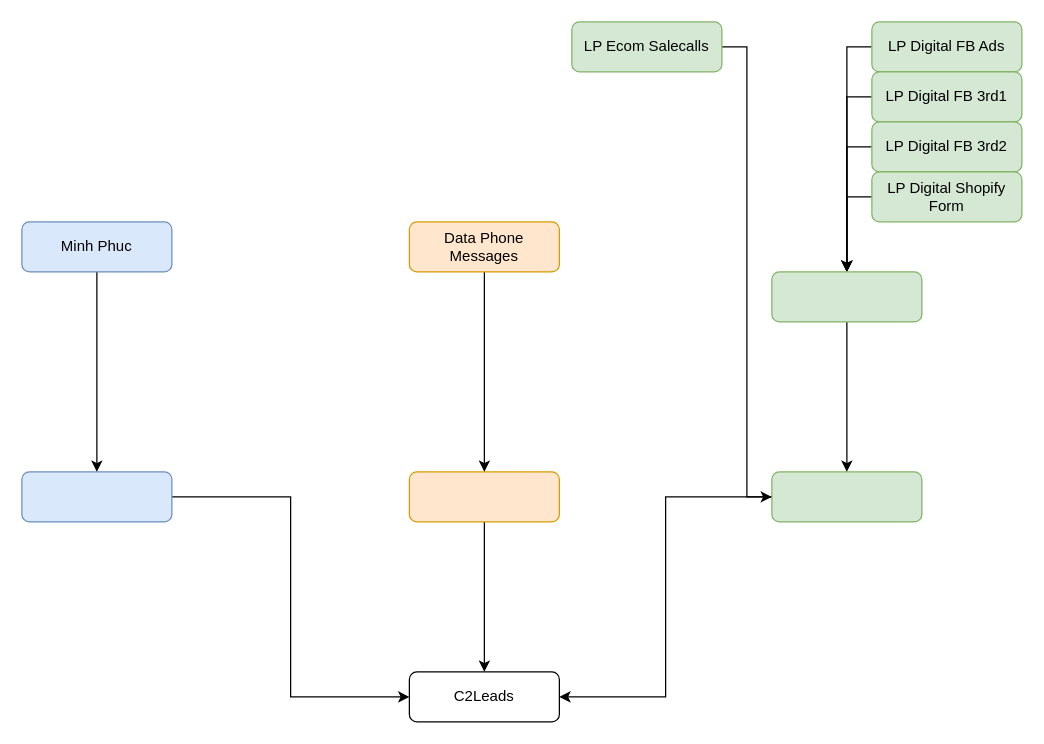
Some shapes in this 1044 by 744 pixel diagram are drawn without their labels. The centre of each missing label's shape, as x and y in pixels:
"C2C" goes at [96,496].
"C2L" goes at [846,496].
"C2M" goes at [483,496].
"LP Digital" goes at [846,296].
